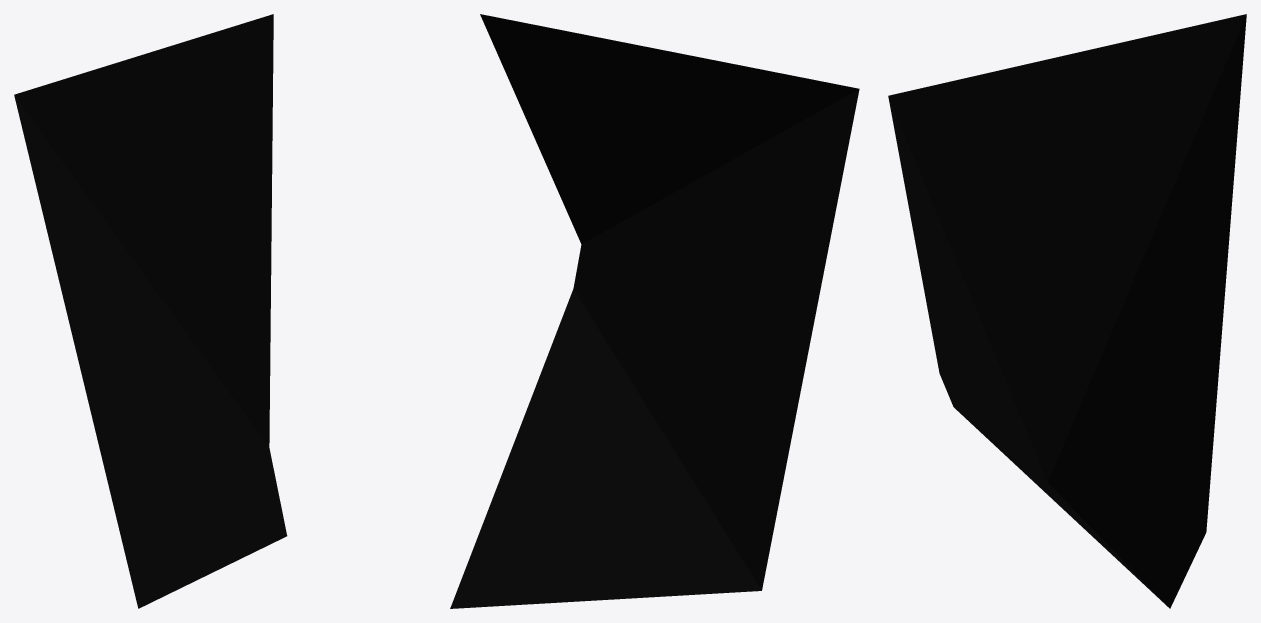
3 renders of one model, left to right at view 1: azimuth 30°, elevation 25°; view 2: azimuth 150°, elevation 25°; view 3: azimuth 270°, elevation 25°, orthographic. The views are drawn at different scales.
Bounding box in the file's own units: 0.0424 × 0.0881 × 0.0551.
1 material, 1 textured.
